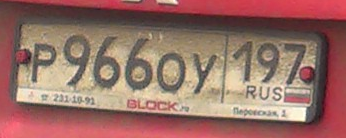character: (123, 35, 155, 92), (62, 31, 92, 89), (92, 34, 122, 91), (156, 51, 188, 94), (188, 52, 218, 96), (254, 40, 282, 84), (32, 42, 59, 85), (281, 40, 306, 86), (231, 39, 255, 86)
